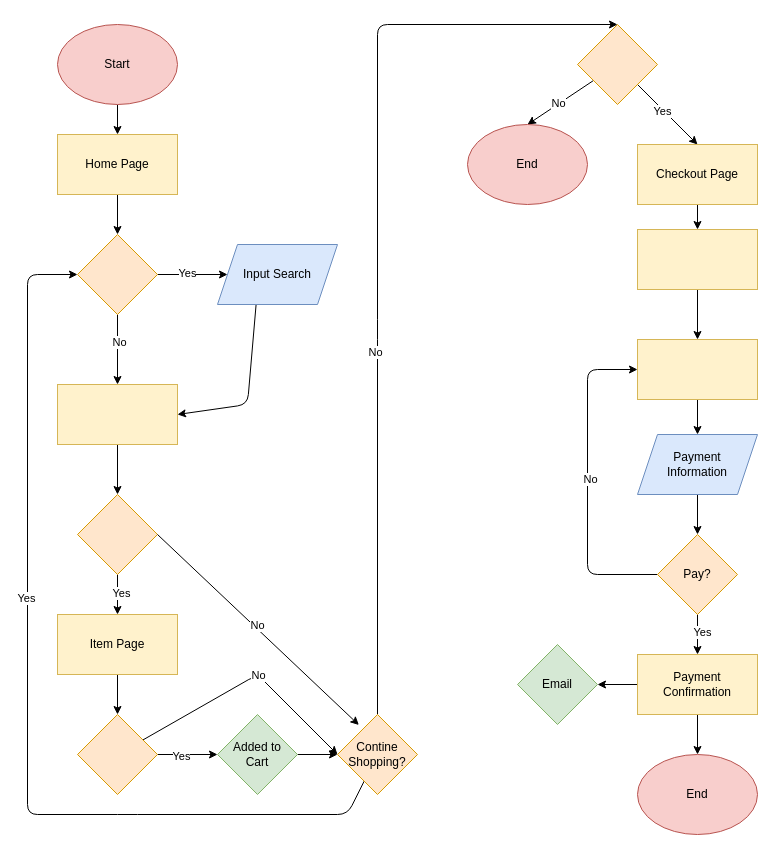
Image size: 775x852. Some labels were removed from this diagram. Each missing label, with the box of its shape:
Add to cart?: (76, 714, 158, 794)
Checkout?: (576, 24, 658, 104)
Search?: (76, 234, 158, 314)
View Cart: (636, 228, 758, 290)
View Item?: (76, 494, 158, 574)
View Payment: (636, 338, 758, 400)
View Products: (56, 384, 178, 444)
